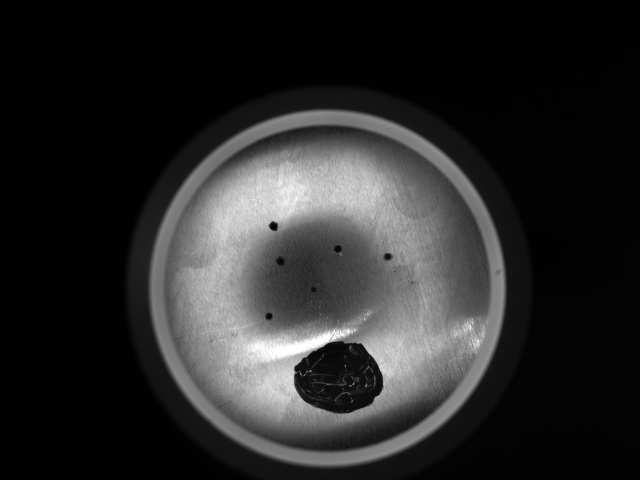zang_wu: (288, 320, 398, 415)
zhen_kong: (319, 228, 359, 267), (373, 239, 404, 272), (266, 248, 297, 275), (254, 306, 287, 330), (299, 277, 329, 303), (261, 215, 289, 242)
